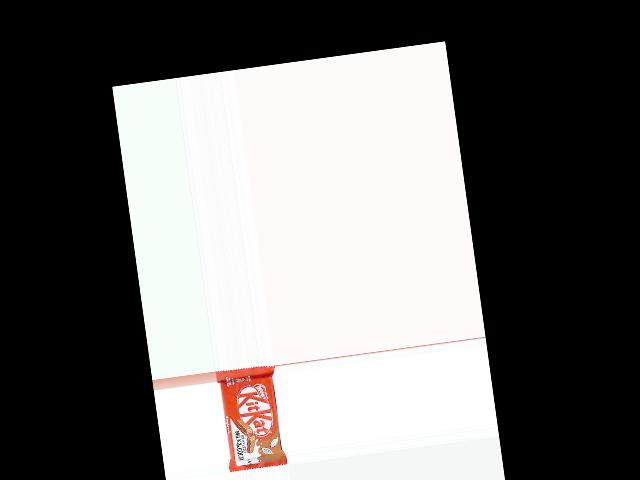chocolate: (215, 364, 287, 473)
